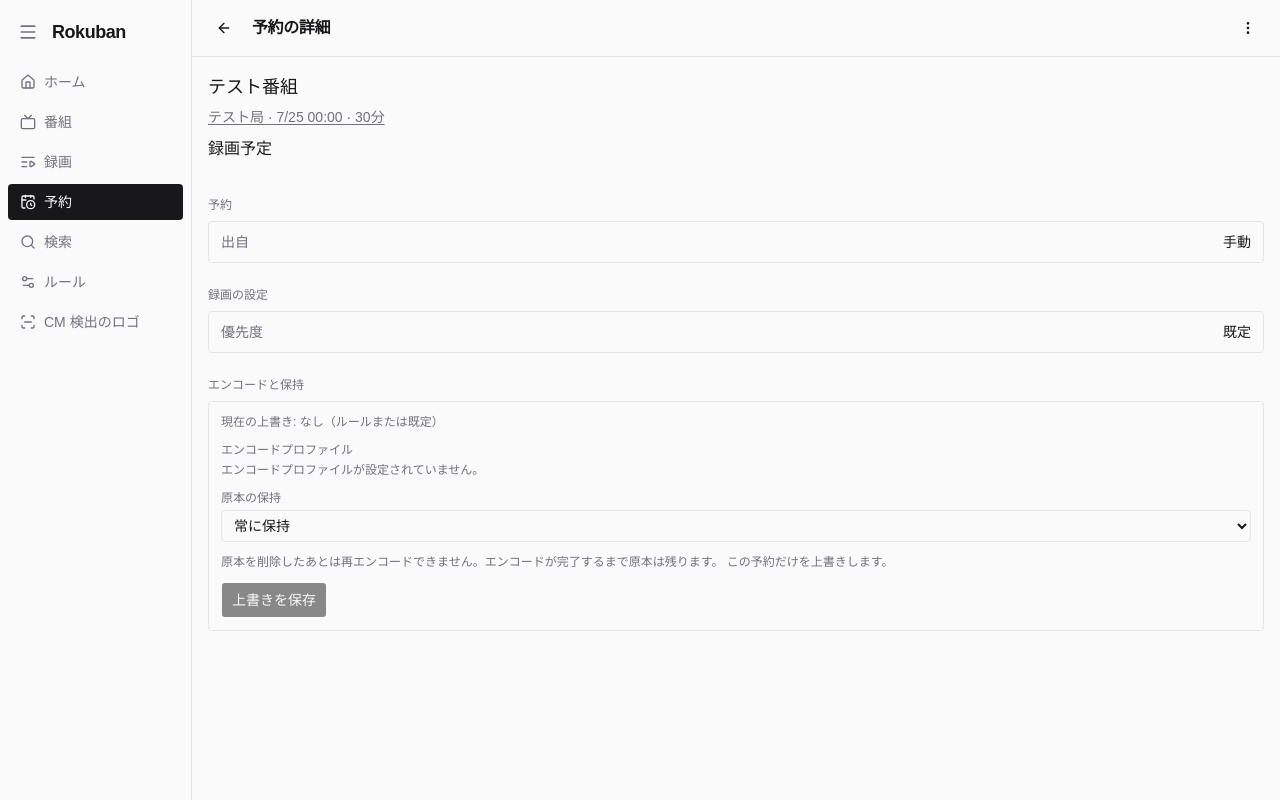
Scenario: ReservationDetailPage › 取消後に一覧へ遷移しても、トーストの「元に戻す」で PUT {action: record} が飛ぶ（手動予約）
expect the heading "テスト番組" is shown: met, box [208, 77, 298, 97]
expect the button "予約を取消" is not shown: met
Click the button named "予約のその他の操作" at (1248, 28), box [1232, 12, 1264, 44]
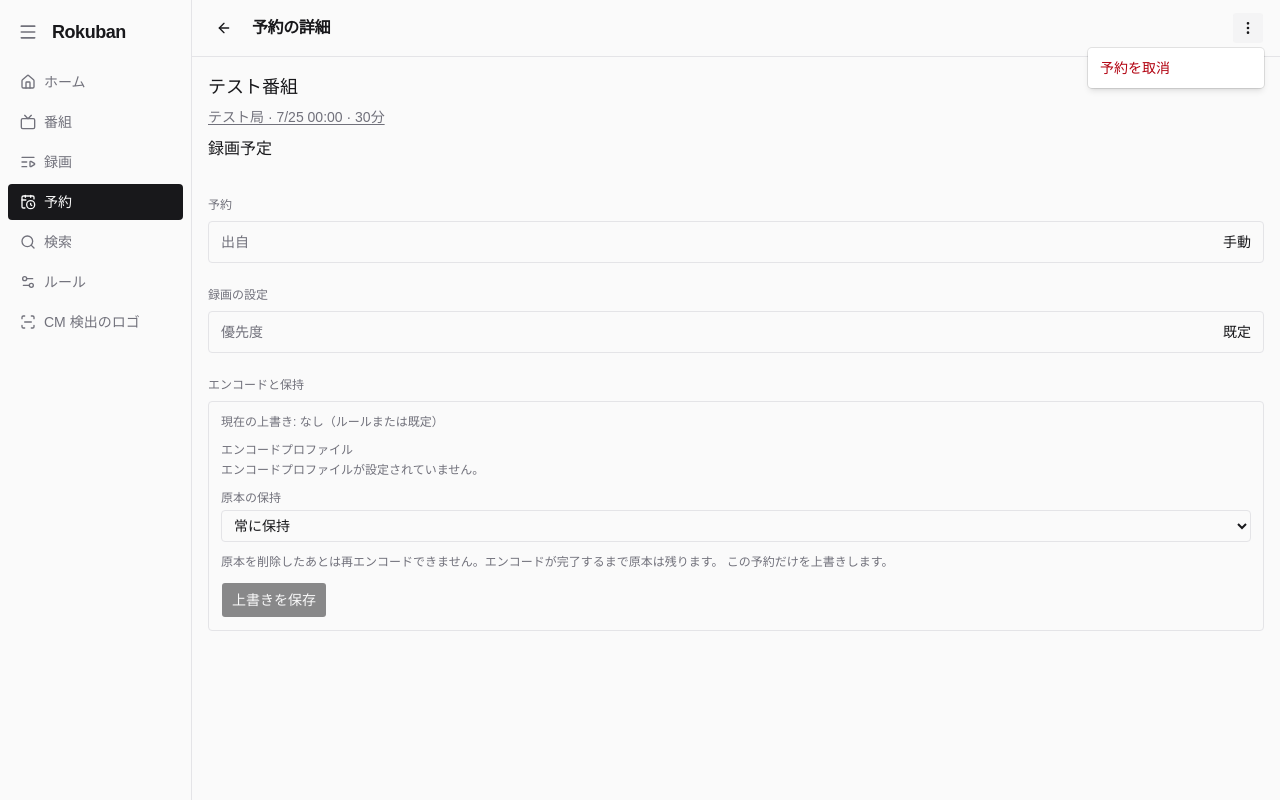
expect the menu item "予約を取消" is shown: met
Click the menu item "予約を取消" at (1135, 68), box [1100, 60, 1170, 76]
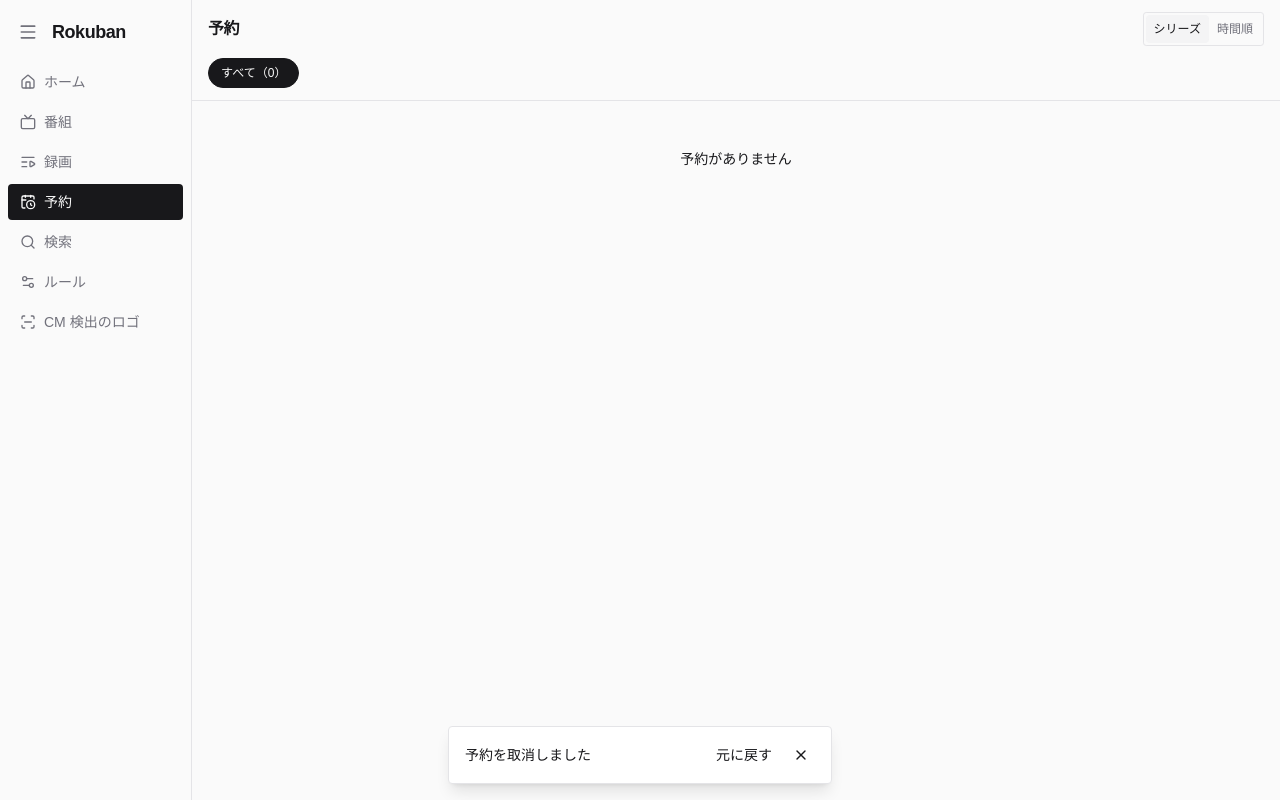
Click the button "元に戻す" at (744, 755), box [705, 739, 783, 771]
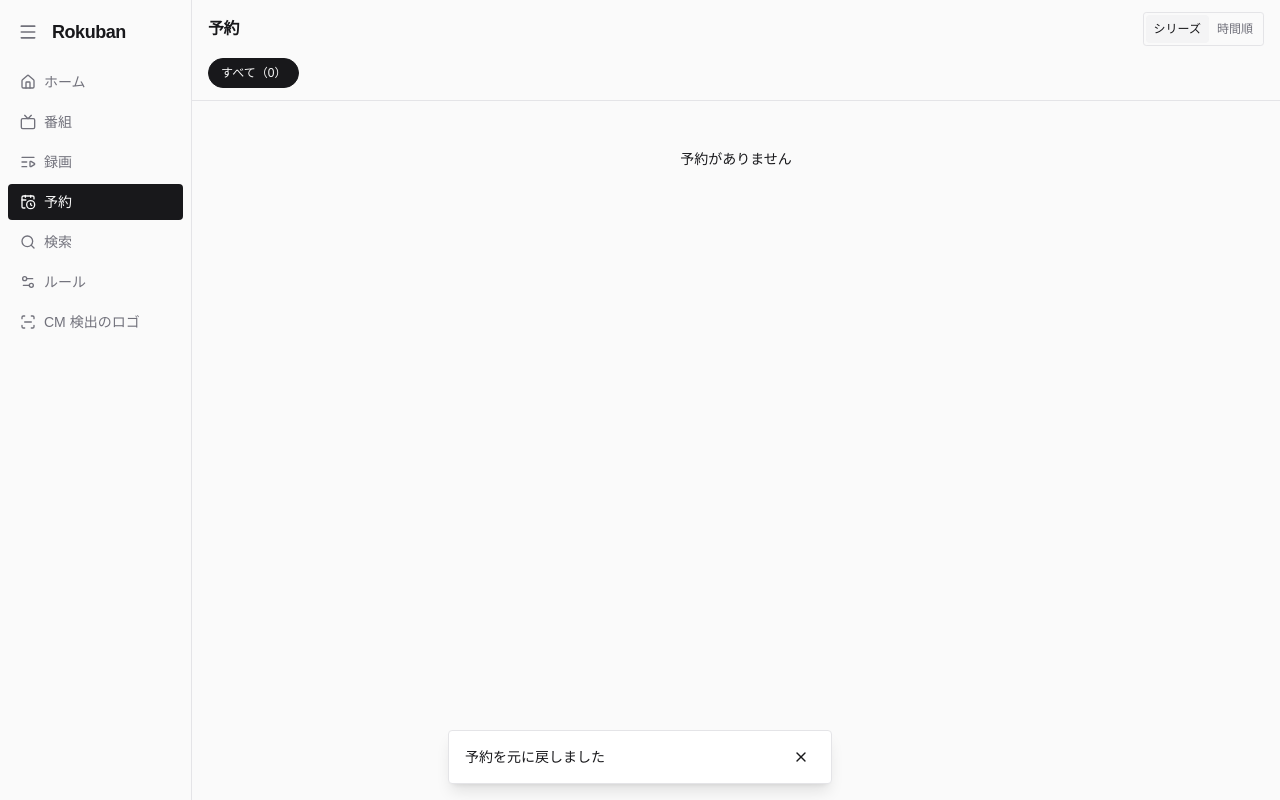
expect the text "予約を元に戻しました" is shown: met, box [465, 747, 605, 767]
